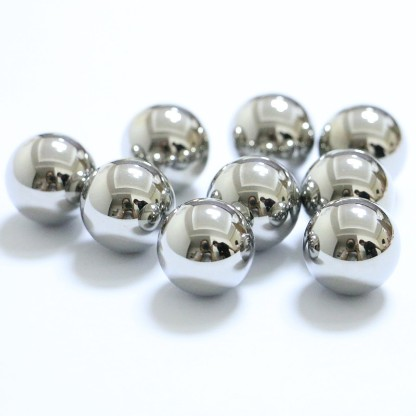ironball: (156, 197, 255, 296), (302, 196, 400, 295), (205, 154, 301, 251), (79, 157, 175, 253), (4, 132, 95, 225), (121, 103, 209, 191), (317, 104, 405, 178), (299, 148, 392, 217), (231, 93, 314, 170)
